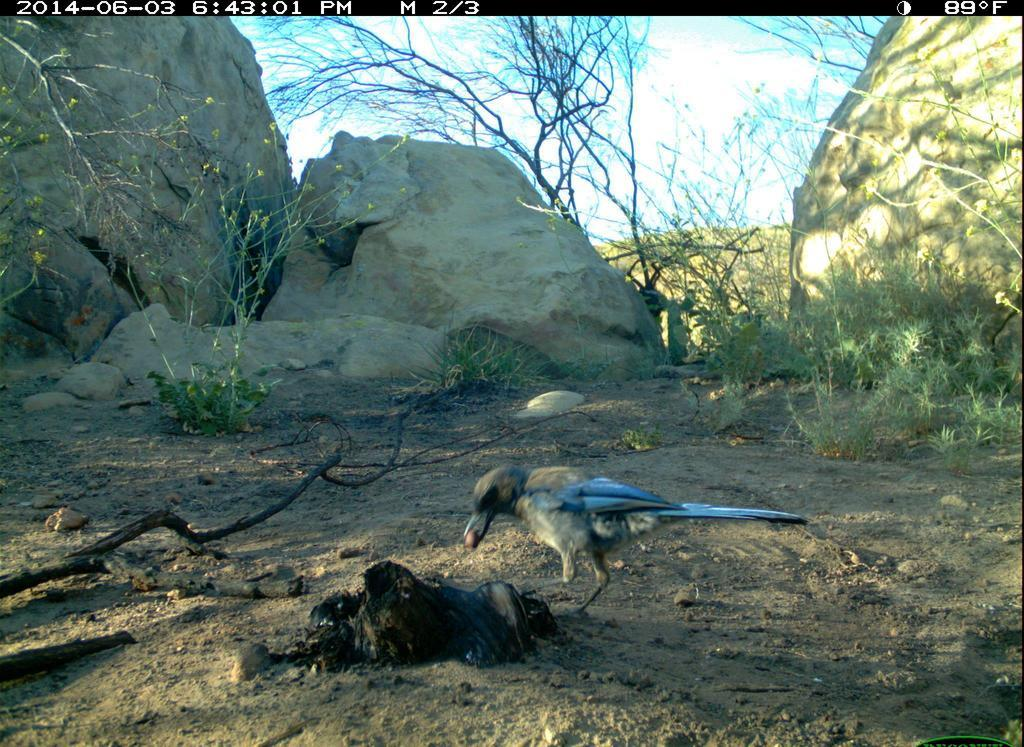bird: (451, 441, 816, 621)
